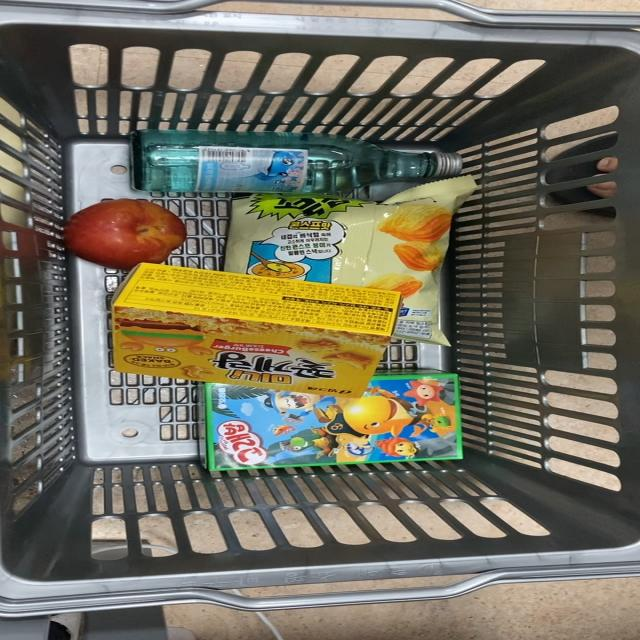ggobukchip: (229, 181, 536, 275)
goraebob: (185, 391, 491, 476)
jinro: (128, 137, 454, 197)
minicrab: (90, 252, 383, 390)
plum: (52, 194, 200, 272)
